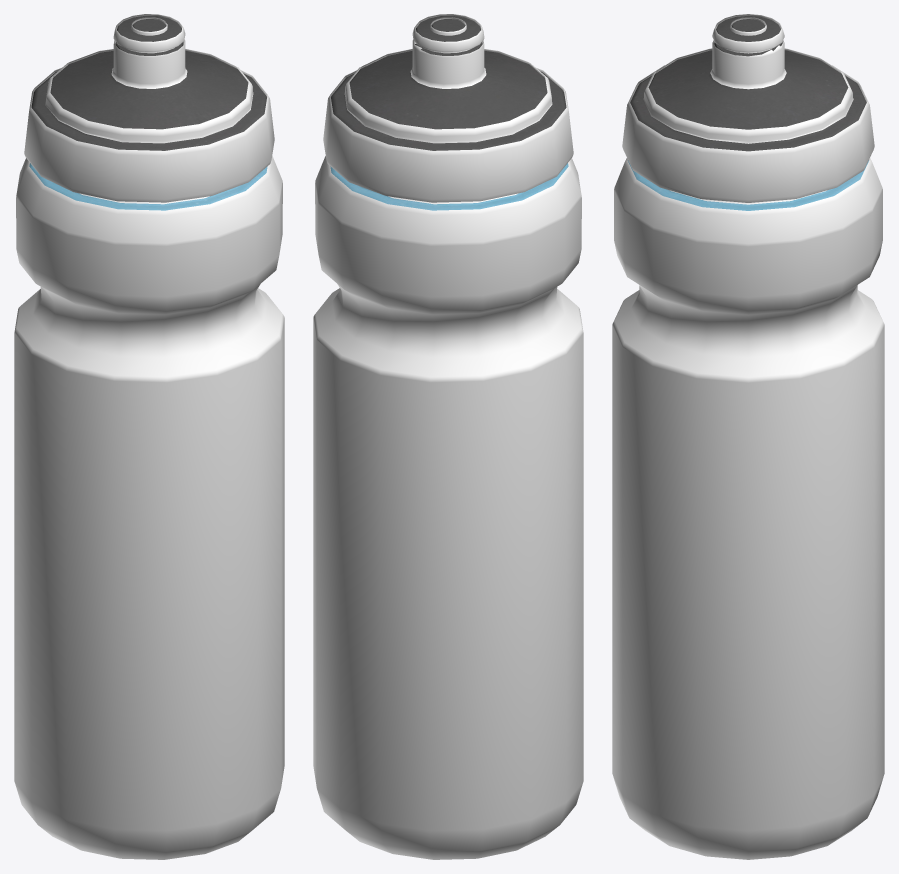
File: bottle-3d.glb
3 renders of one model, left to right at view 1: azimuth 30°, elevation 25°; view 2: azimuth 150°, elevation 25°; view 3: azimuth 270°, elevation 25°, orthographic.
Visible parts, largest first — view 1: zone_wrap, Object_2; view 2: zone_wrap, Object_2; view 3: zone_wrap, Object_2.
Part boxes in pixels (box(x1,y1,x2,y2)): zone_wrap: box(14, 14, 284, 859); Object_2: box(29, 16, 267, 210); zone_wrap: box(313, 14, 583, 859); Object_2: box(330, 16, 568, 210); zone_wrap: box(612, 14, 884, 859); Object_2: box(627, 16, 869, 210).
Bounding box in the file's own units: 2.86 × 9.12 × 2.86.
Materials: 2 (1 with a texture image).
